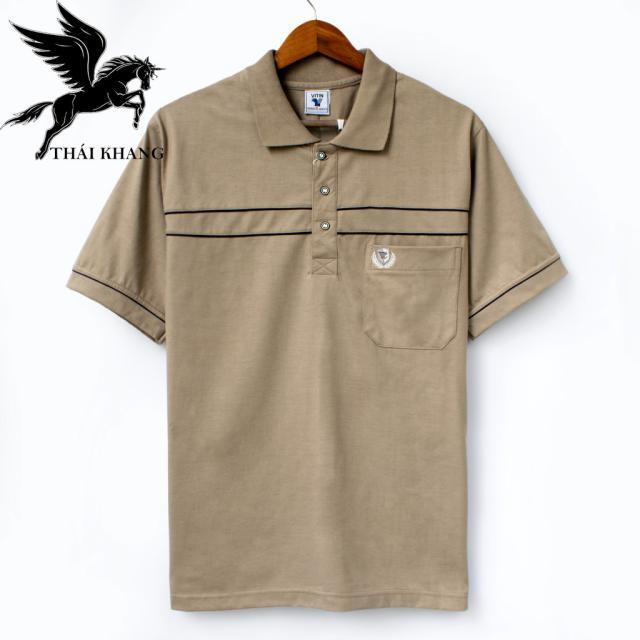Shirt: (63, 34, 565, 622)
